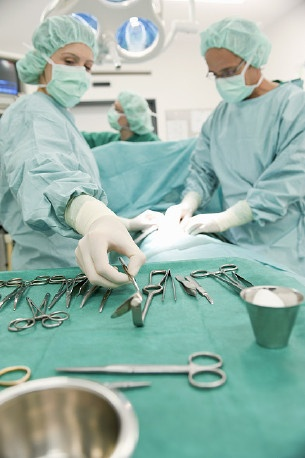Mask: (43, 49, 98, 103)
